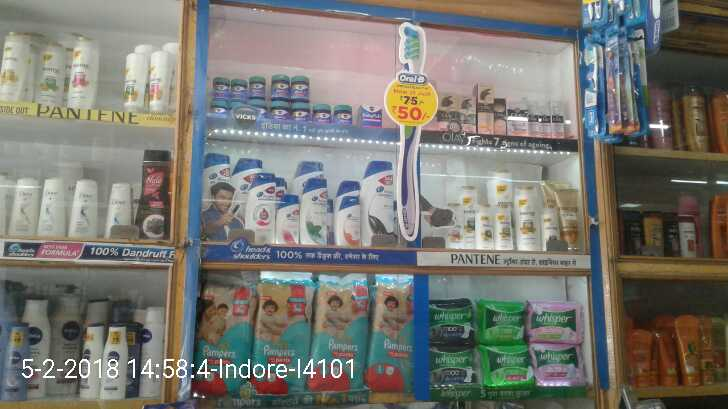beauty: (431, 80, 511, 138), (362, 156, 402, 249), (61, 38, 103, 108), (245, 172, 277, 245), (301, 180, 332, 249), (513, 185, 543, 251), (335, 180, 364, 244), (278, 196, 304, 247), (494, 209, 515, 257), (474, 205, 495, 249)
pharmacy: (210, 70, 390, 133), (193, 280, 257, 401), (248, 281, 312, 402), (314, 279, 378, 400), (364, 279, 420, 402), (534, 339, 584, 388), (532, 296, 582, 345), (429, 296, 475, 347), (431, 347, 477, 398), (479, 345, 525, 396), (481, 300, 527, 351)
